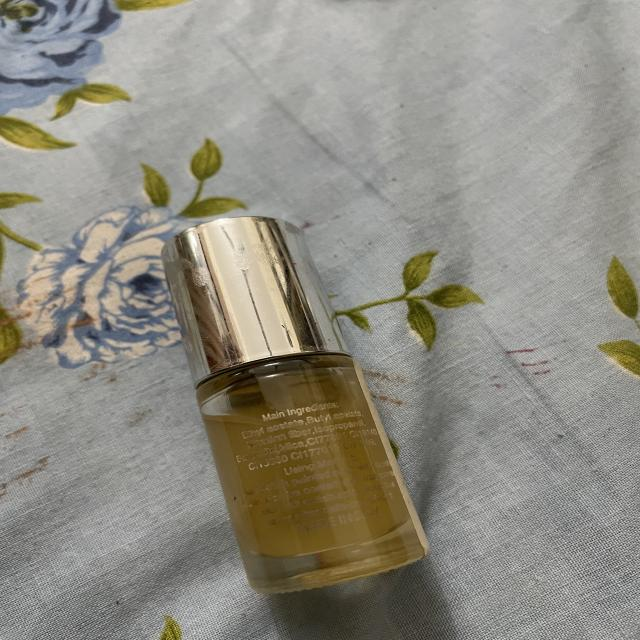nail polish: (132, 208, 470, 608)
